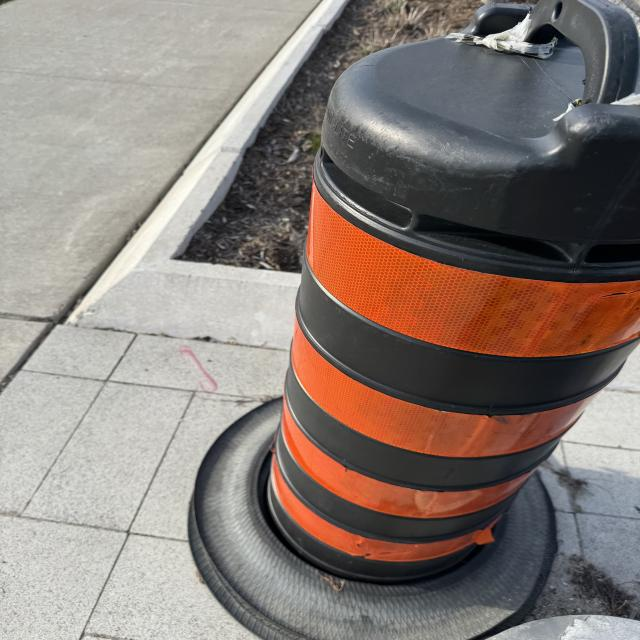Teraffic Barrel: (189, 0, 640, 640), (268, 0, 640, 582)
